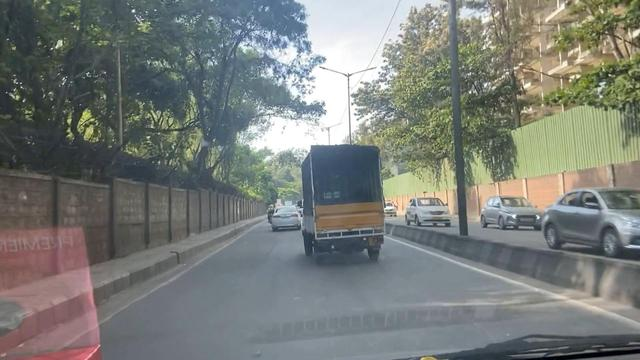HMV: (294, 139, 389, 264)
